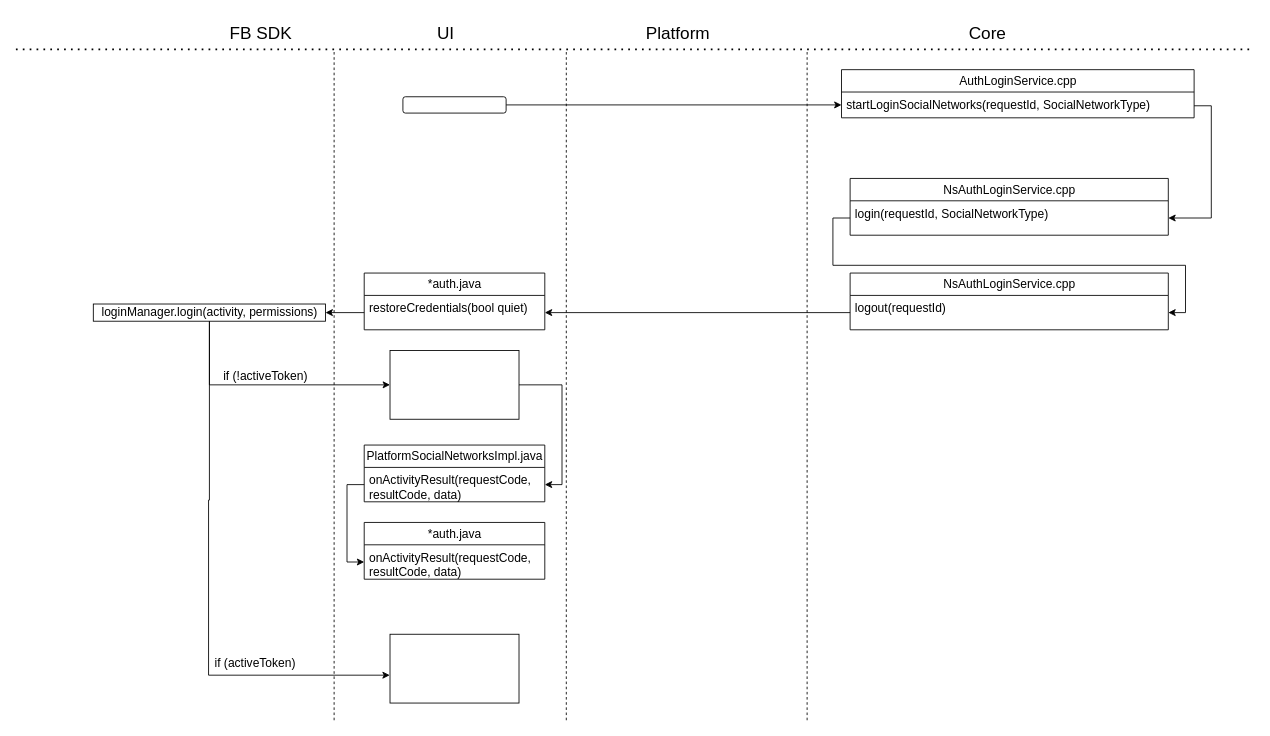
Image size: 1270x736. Some labels were removed from this diagram. Here are the shapes that lost their labels. From the top down, the centre of each, then its label:
pixel 454 104: F button(login)
pixel 454 384: FacebookDialog
pixel 454 668: UseAccessData
